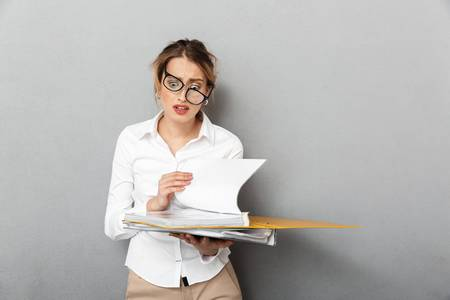C_shirt: (105, 112, 247, 290)
